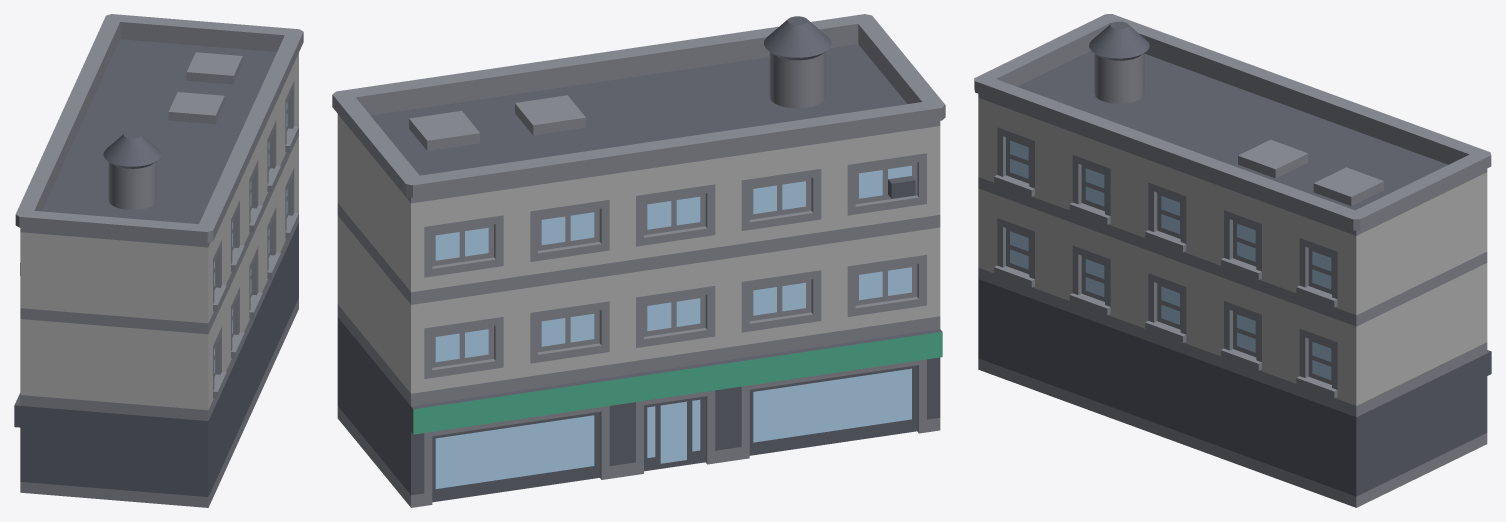
File: large_buildingF.006.obj
The picture shows the model from 3 angles, left to right: view 1: azimuth 30°, elevation 25°; view 2: azimuth 150°, elevation 25°; view 3: azimuth 270°, elevation 25°; orthographic projection. The views are drawn at different scales.
Visible parts, largest first — view 1: large_buildingF.004; view 2: large_buildingF.004; view 3: large_buildingF.004.
Boxes of the visible parts, <box> form: large_buildingF.004: <box>14,14,303,507</box>; large_buildingF.004: <box>332,14,945,507</box>; large_buildingF.004: <box>974,14,1491,507</box>.
Bounding box in the file's own units: 28.68 × 22.09 × 30.44.
